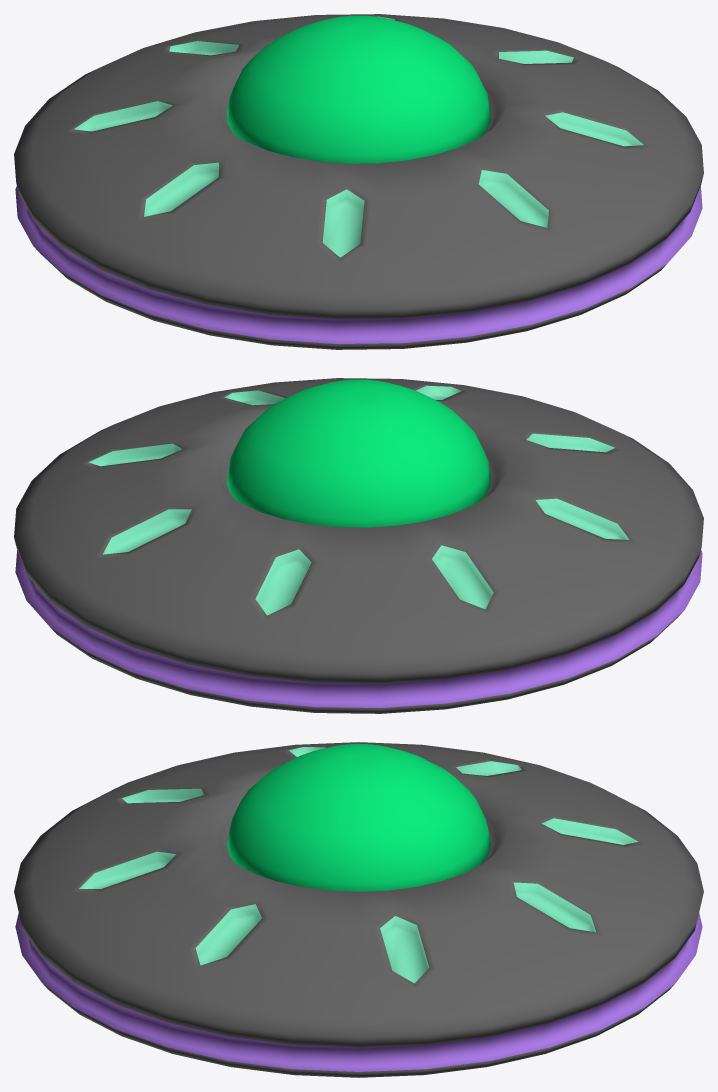
The model's file is UFO.fbx.
3 views of the same model, one above another, from view 1: azimuth 30°, elevation 25°; view 2: azimuth 150°, elevation 25°; view 3: azimuth 270°, elevation 25° (orthographic).
Visible parts, largest first — view 1: Ufo; view 2: Ufo; view 3: Ufo.
Boxes of the visible parts, left/top/right/bottom form: Ufo: left=14, top=14, right=703, bottom=349; Ufo: left=14, top=378, right=703, bottom=713; Ufo: left=14, top=742, right=703, bottom=1077.
Bounding box in the file's own units: 455 × 164 × 455.
